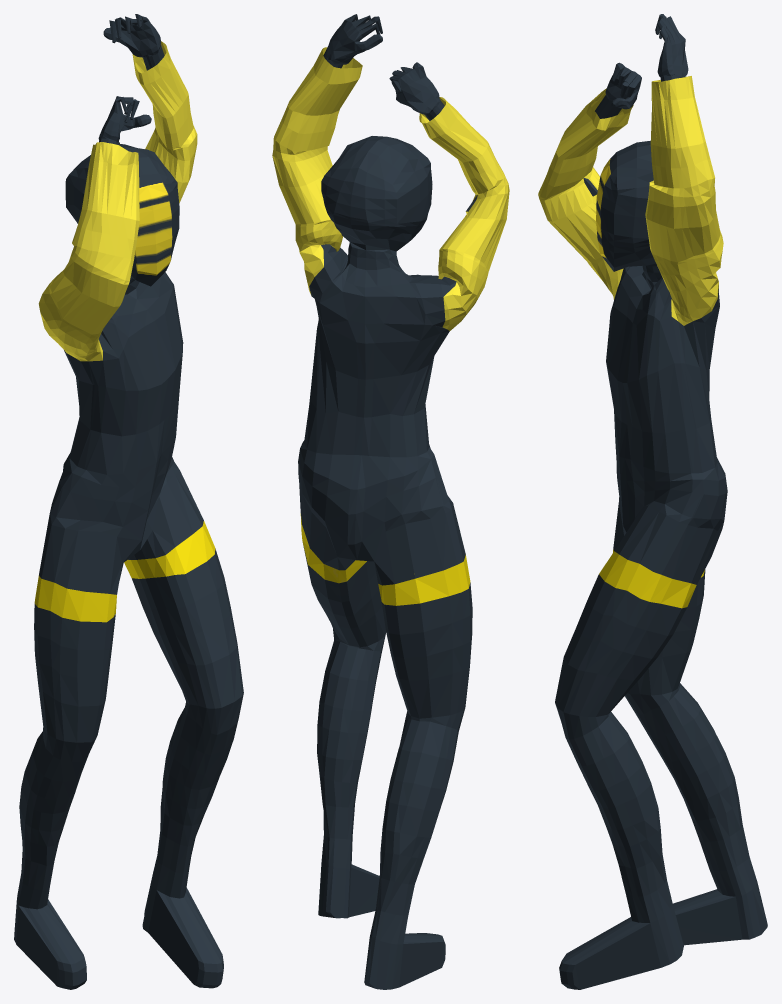
File: Sentry_Attack_000008.obj
The picture shows the model from 3 angles, left to right: view 1: azimuth 30°, elevation 25°; view 2: azimuth 150°, elevation 25°; view 3: azimuth 270°, elevation 25°; orthographic projection.
Visible parts, largest first — view 1: Cube; view 2: Cube; view 3: Cube.
Boxes of the visible parts, x1=… form: Cube: x1=14, y1=14, x2=243, y2=989; Cube: x1=272, y1=14, x2=509, y2=989; Cube: x1=538, y1=14, x2=767, y2=989.
Size of the model in its own units: 0.8785 by 4.52 by 0.9879.
